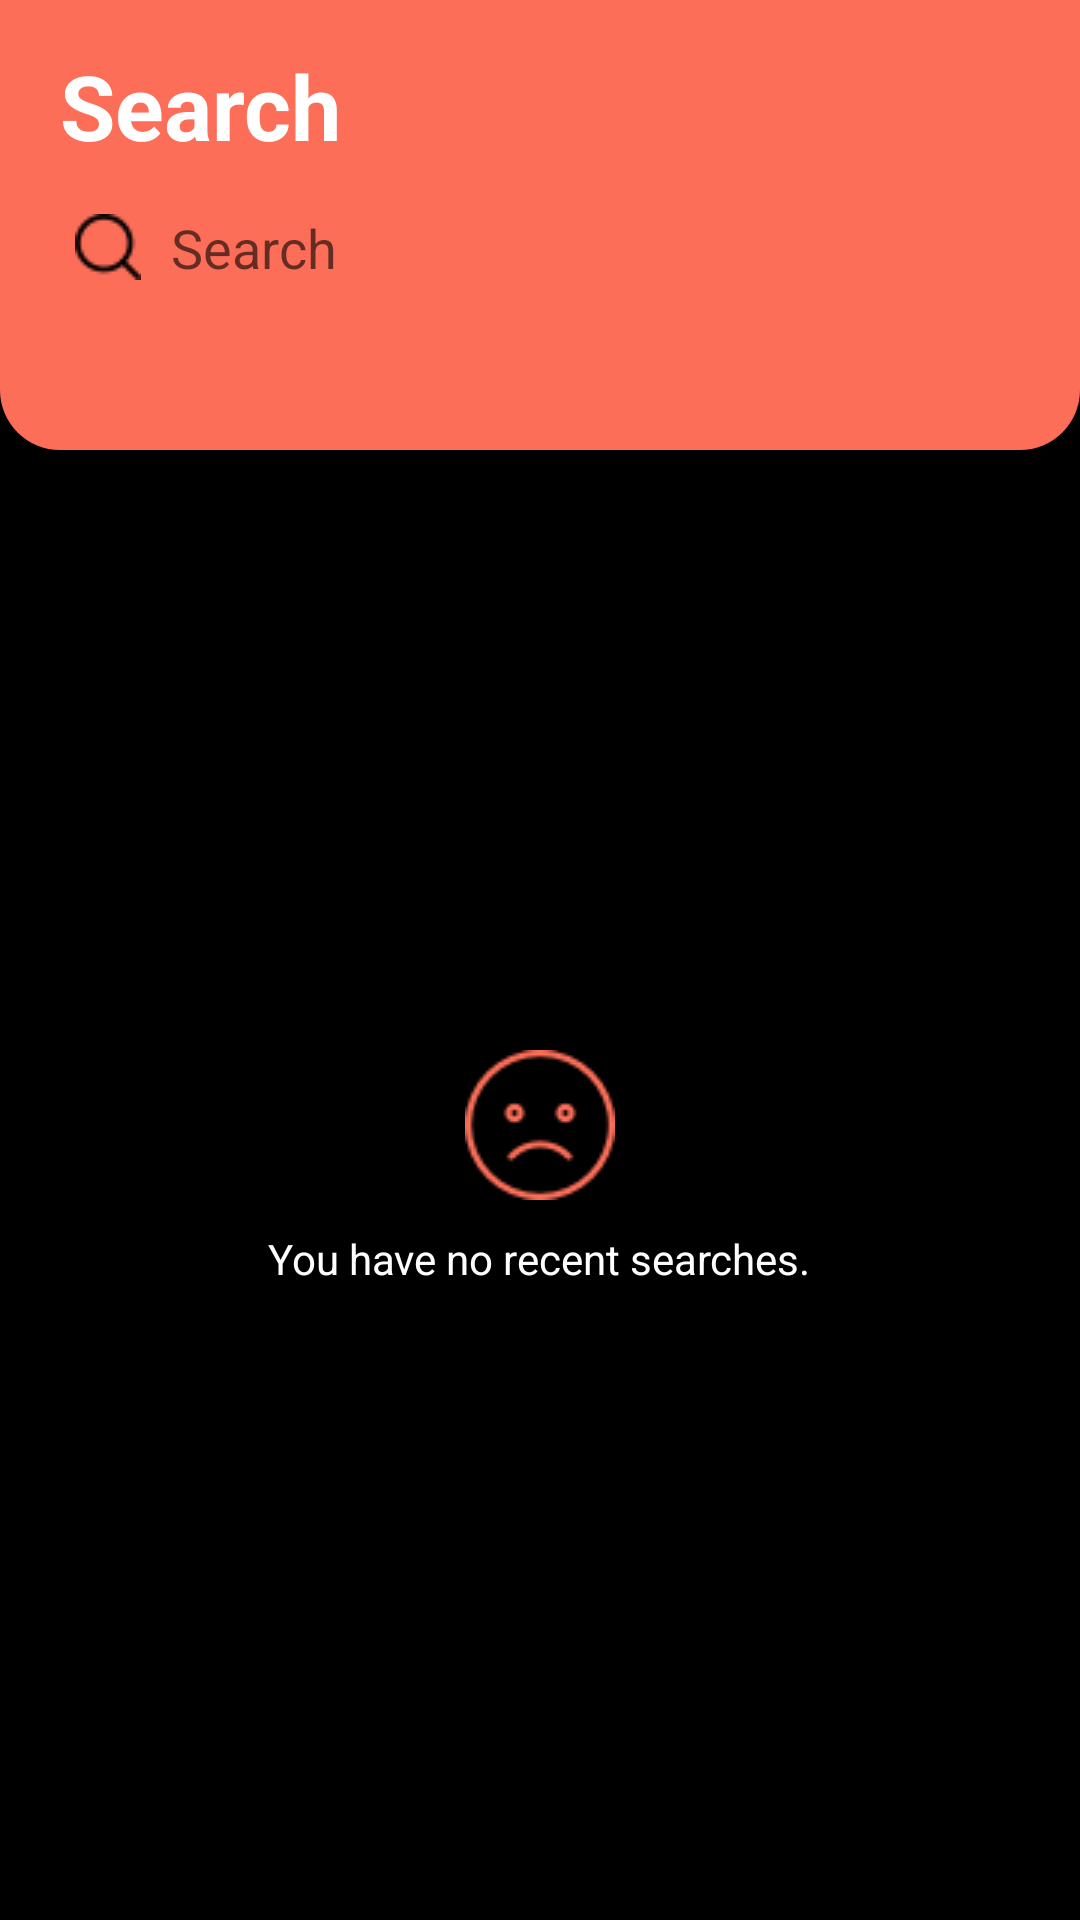

Icons on this 1080px x 1920px Android screen, each with its box as (x1, y1, x2, y2):
smiley: (465, 1050, 615, 1200)
